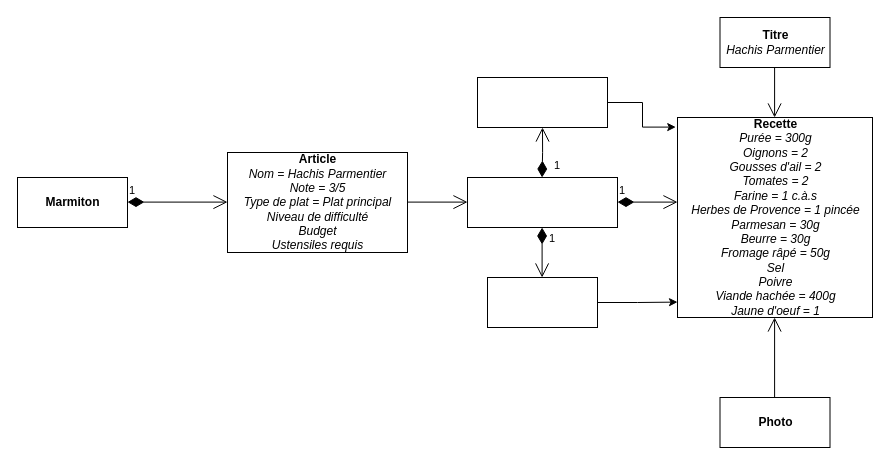
Some shapes in this 890 by 465 pixel diagram are drawn without their labels. The shapes that lost their labels are listed below. From the top down, each one's centre as x and y in pixels, then its label:
[542,102]: Temps de préparation
[542,202]: Nombre de personnes Personnes = 4
[542,302]: Temps de cuisson
